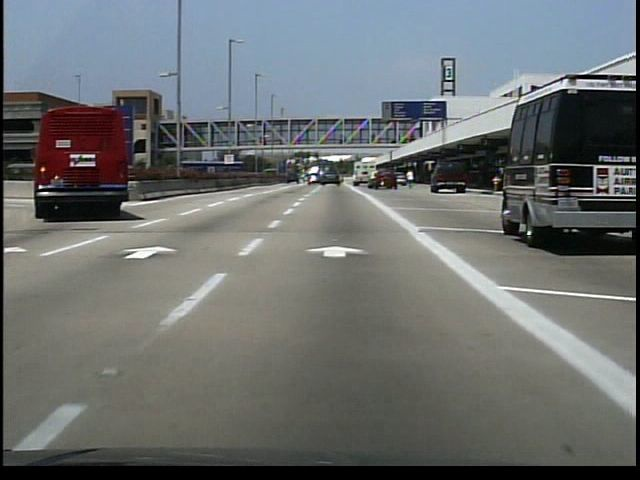person: (404, 169, 418, 191)
